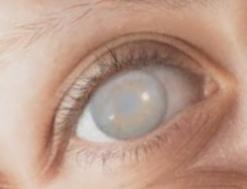eye: (90, 70, 170, 141)
